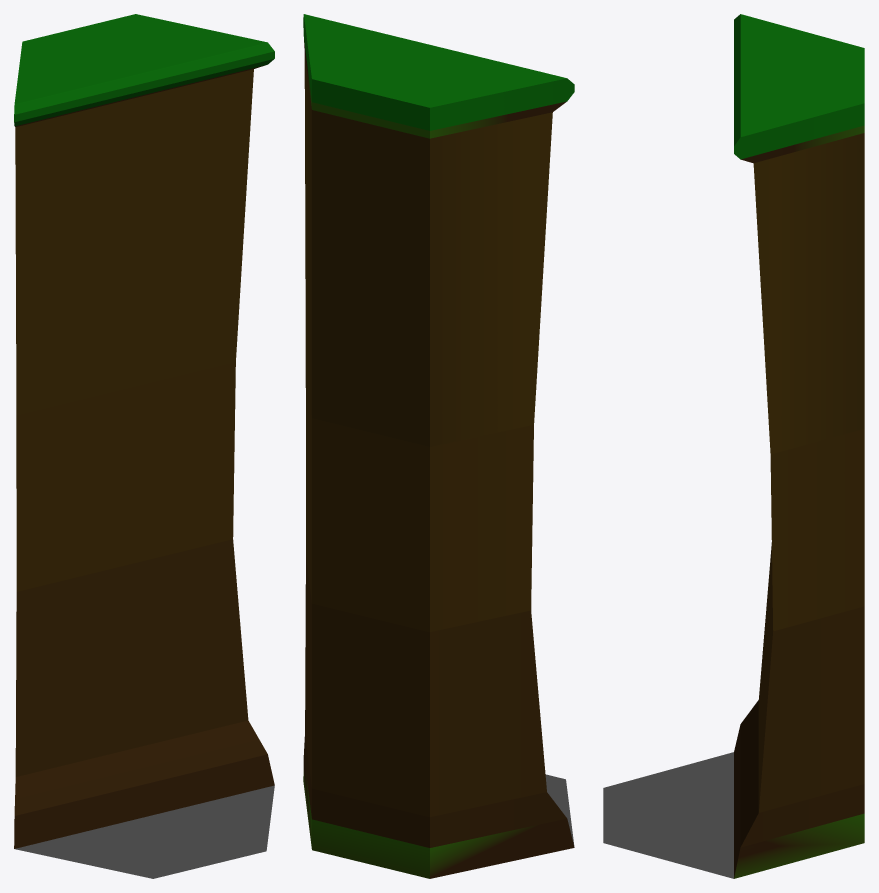
The model's file is rock1.fbx.
The picture shows the model from 3 angles, left to right: view 1: azimuth 30°, elevation 25°; view 2: azimuth 150°, elevation 25°; view 3: azimuth 270°, elevation 25°; orthographic projection. The views are drawn at different scales.
Visible parts, largest first — view 1: Cube; view 2: Cube; view 3: Cube.
Boxes of the visible parts, <box> form: Cube: <box>14,14,274,878</box>; Cube: <box>303,14,574,878</box>; Cube: <box>603,14,864,878</box>.
Bounding box in the file's own units: 920 × 2500 × 800.
